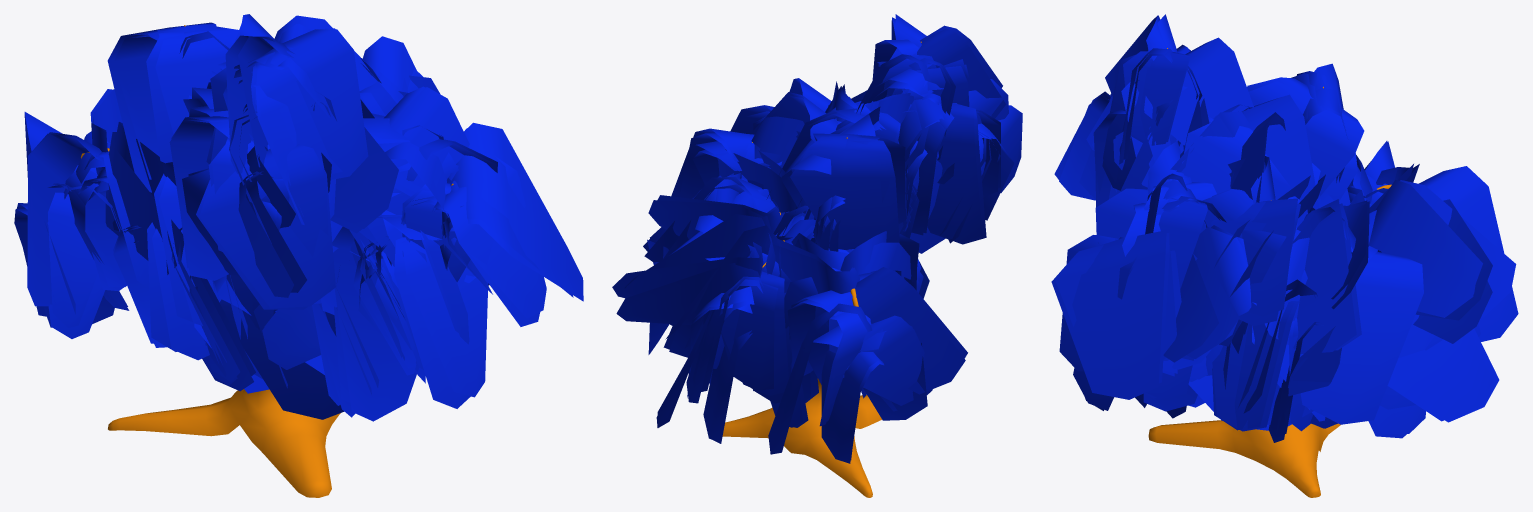
File: boom nr2.fbx
The picture shows the model from 3 angles, left to right: view 1: azimuth 30°, elevation 25°; view 2: azimuth 150°, elevation 25°; view 3: azimuth 270°, elevation 25°; orthographic projection. The views are drawn at different scales.
Parts seen in each view (by area): view 1: Cube; view 2: Cube; view 3: Cube.
Boxes of the visible parts, left/top/right/bottom form: Cube: left=14, top=14, right=583, bottom=497; Cube: left=612, top=14, right=1022, bottom=497; Cube: left=1051, top=14, right=1518, bottom=497.
Bounding box in the file's own units: 35.21 × 36.78 × 38.96.
